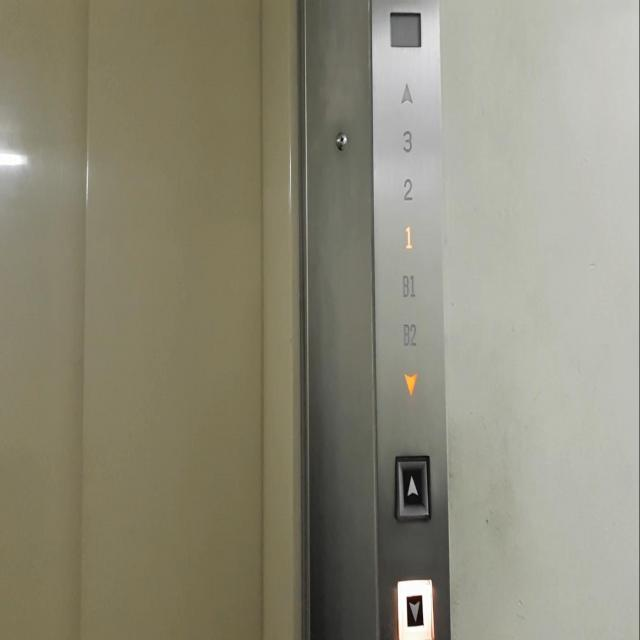down: (396, 579, 432, 639)
up: (396, 456, 430, 519)
